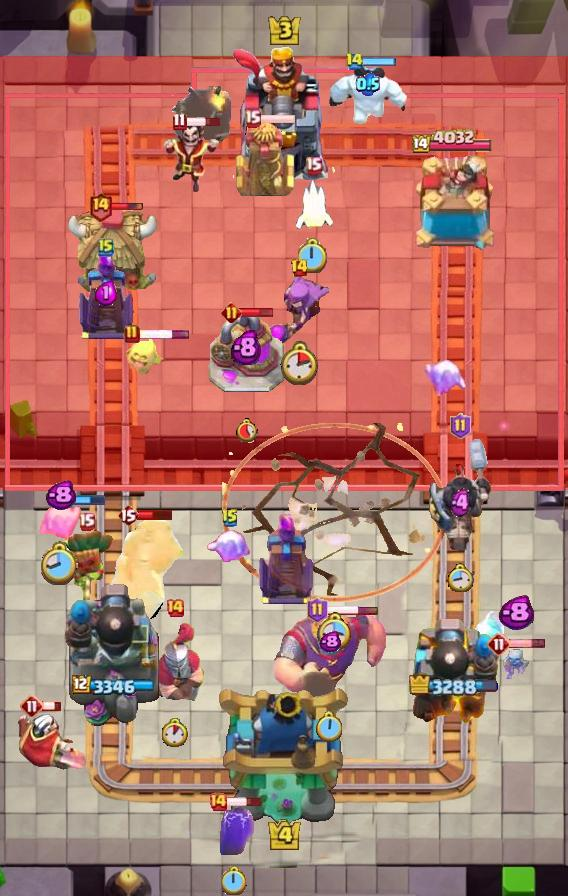baby-dragon: (173, 86, 232, 149)
bat: (292, 178, 334, 232), (468, 609, 504, 655)
bat-evolution: (122, 338, 164, 376)
electro-spirit: (498, 595, 534, 631), (231, 329, 261, 365), (45, 480, 75, 511), (449, 488, 470, 518), (356, 72, 380, 96), (95, 280, 117, 306), (319, 631, 341, 653)
elixir: (41, 541, 79, 587), (280, 341, 318, 385), (316, 612, 351, 650), (298, 238, 328, 273), (316, 712, 344, 744), (446, 563, 473, 592), (162, 717, 188, 746), (222, 866, 247, 895), (235, 418, 258, 442)
emote: (54, 494, 106, 506), (325, 605, 379, 616), (137, 329, 190, 340), (138, 508, 175, 521), (185, 116, 223, 128), (260, 113, 297, 125), (509, 638, 546, 650), (225, 796, 262, 808), (362, 56, 398, 67), (238, 306, 273, 317), (110, 202, 144, 212), (42, 700, 62, 712)
goblin-barrel: (56, 528, 116, 604)
goblin-brawler: (234, 117, 296, 201)
guard: (222, 423, 446, 602)
heal-spirit: (501, 647, 531, 679)
ice-spirit-evolution-symbol: (76, 249, 136, 341), (256, 514, 316, 606)
inferno-dragon: (427, 434, 493, 554)
king-tower: (216, 684, 352, 826), (230, 45, 338, 181)
lightning: (271, 611, 389, 701)
lumberjack: (160, 119, 222, 195)
mirror: (37, 501, 83, 543), (421, 358, 471, 396), (205, 530, 255, 568)
pekka: (207, 312, 285, 394)
prince: (67, 206, 161, 296)
queen-tower: (407, 156, 499, 256)
rage: (326, 63, 410, 127)
rascal-girl: (265, 273, 333, 347)
selected: (413, 128, 496, 155), (410, 675, 499, 699), (71, 675, 156, 697)
skeleton-king: (14, 703, 86, 777)
spear-goblin: (214, 805, 254, 855)
text: (87, 191, 112, 222), (487, 632, 511, 656), (20, 694, 44, 718), (449, 413, 470, 439), (307, 597, 328, 623), (117, 503, 139, 527), (222, 301, 243, 322), (290, 258, 310, 278), (165, 598, 185, 618), (208, 792, 228, 812), (344, 52, 363, 71), (221, 508, 239, 528), (243, 108, 261, 127), (305, 157, 323, 175), (77, 512, 94, 531), (98, 237, 114, 257), (124, 324, 140, 344), (172, 113, 187, 132)
tower-bar: (63, 579, 165, 731), (406, 611, 500, 731)
wall-breaker-evolution: (145, 623, 205, 703)
wizard: (107, 518, 183, 644)
